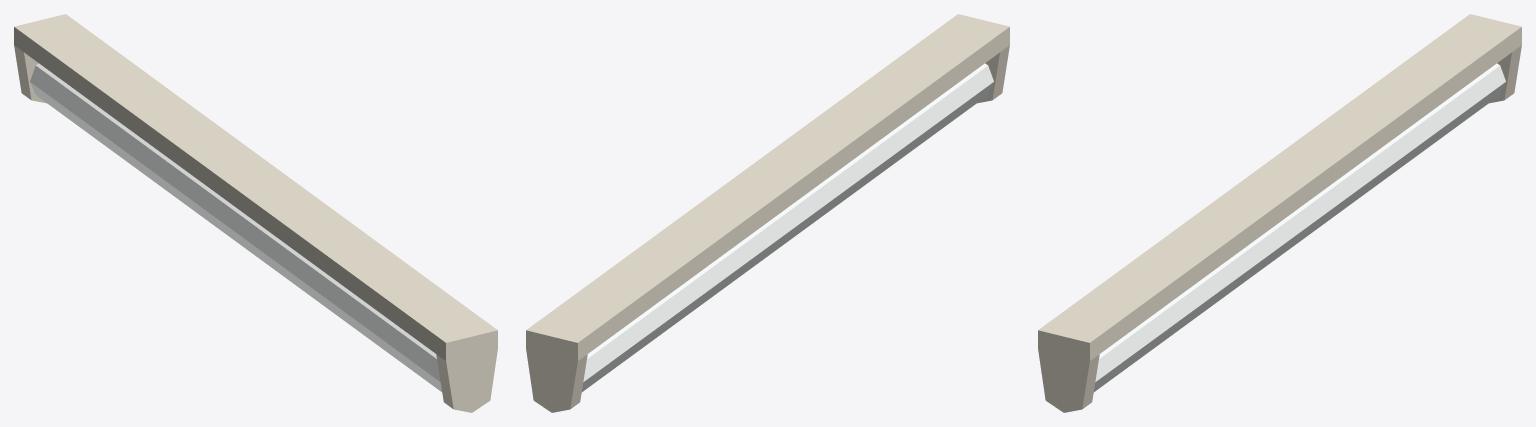
The model's file is lamp_halogen.fbx.
The picture shows the model from 3 angles, left to right: view 1: azimuth 30°, elevation 25°; view 2: azimuth 150°, elevation 25°; view 3: azimuth 330°, elevation 25°; orthographic projection.
Parts seen in each view (by area): view 1: lamp_halogen; view 2: lamp_halogen; view 3: lamp_halogen.
Part boxes in pixels (bbox=[...]): lamp_halogen: bbox=[14, 14, 497, 412]; lamp_halogen: bbox=[526, 14, 1009, 412]; lamp_halogen: bbox=[1038, 14, 1521, 412].
Bounding box in the file's own units: 208 × 14.45 × 20.33.
